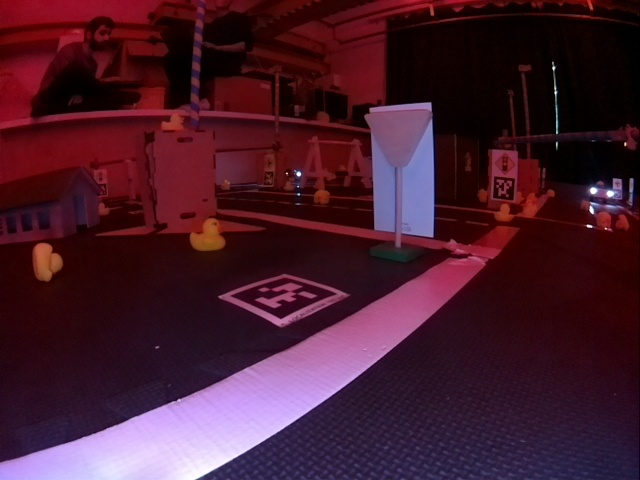Duckie: (190, 219, 226, 251), (32, 242, 62, 276), (162, 113, 183, 129), (495, 206, 514, 220), (596, 211, 610, 227), (315, 190, 328, 203), (618, 214, 628, 230), (98, 203, 109, 214), (580, 200, 589, 209), (478, 189, 488, 197), (222, 179, 230, 189)
QR code: (222, 274, 344, 324)
Signal sign: (493, 151, 516, 175), (94, 169, 107, 181)
